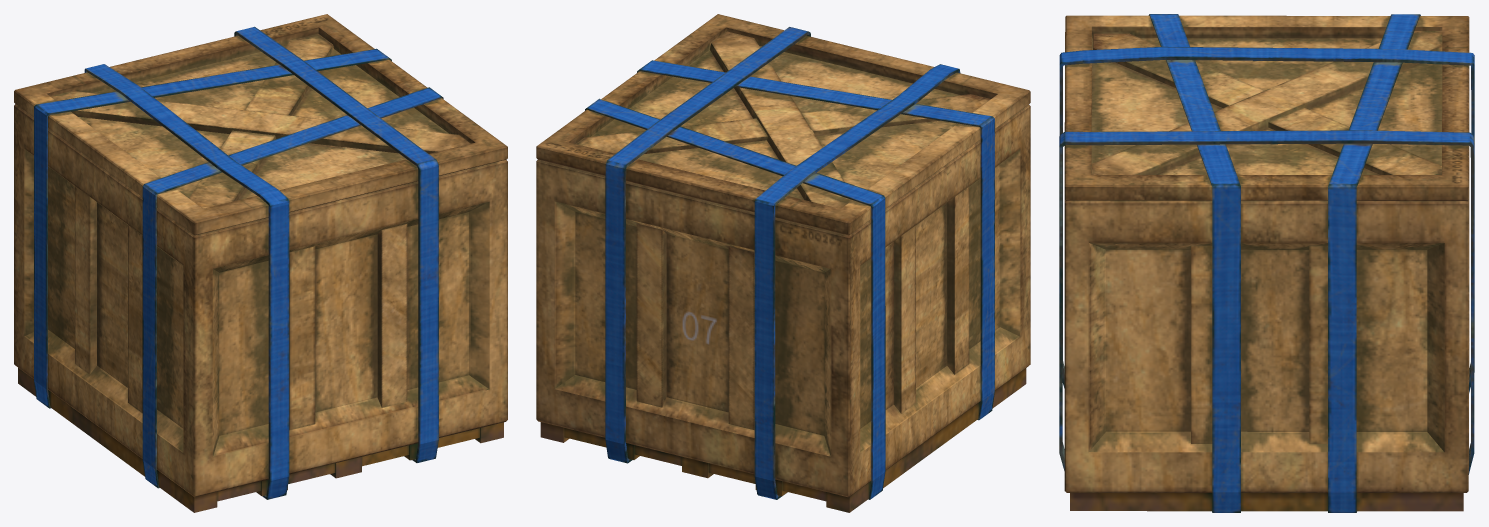
The model's file is crate.glb.
3 views of the same model, side by side, from view 1: azimuth 30°, elevation 25°; view 2: azimuth 150°, elevation 25°; view 3: azimuth 270°, elevation 25° (orthographic). The views are drawn at different scales.
Parts seen in each view (by area): view 1: Crate.Body, Cover, Straps, Palet; view 2: Crate.Body, Cover, Straps, Palet; view 3: Crate.Body, Cover, Straps, Palet.
Part boxes in pixels (x1,y1,x2,y2): Crate.Body: (14,104,507,497); Cover: (14,14,507,235); Straps: (34,26,443,499); Palet: (18,368,503,512); Crate.Body: (536,104,1030,497); Cover: (536,14,1030,235); Straps: (585,27,994,499); Palet: (540,368,1026,512); Crate.Body: (1064,91,1469,492); Cover: (1064,15,1469,200); Straps: (1059,14,1474,512); Palet: (1070,493,1463,511).
Size of the model in its own units: 0.8077 by 0.7396 by 0.8225.
Materials: 3 (3 with a texture image).
